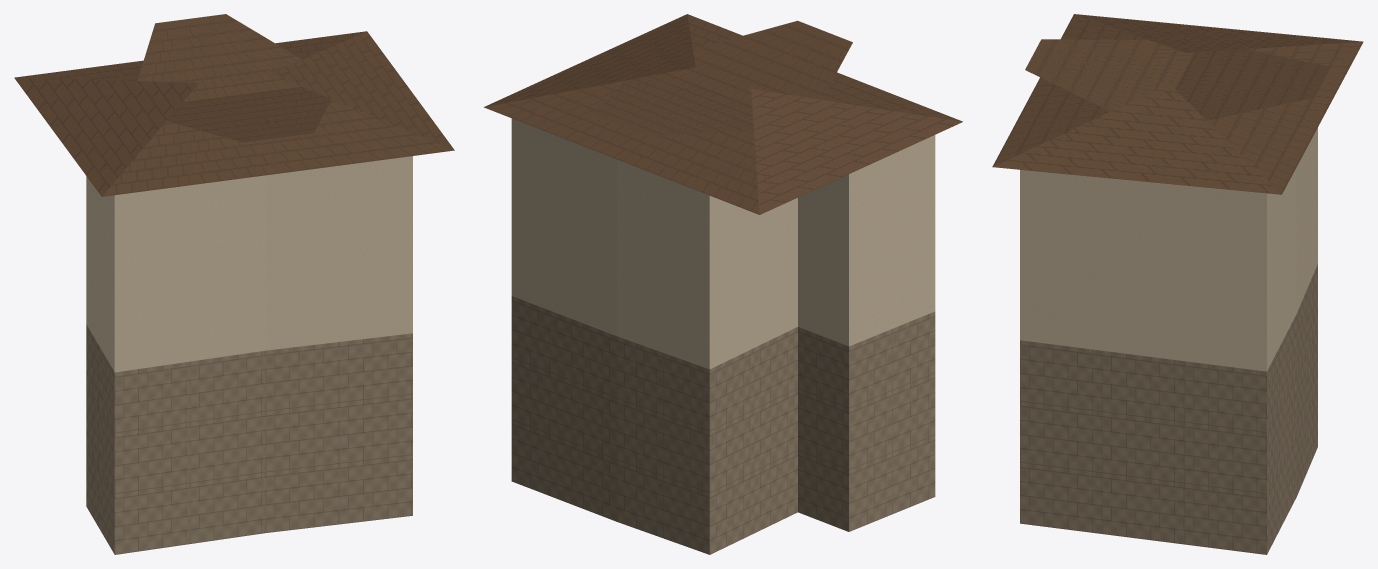
File: bld_c22_-43_568.gltf
The picture shows the model from 3 angles, left to right: view 1: azimuth 30°, elevation 25°; view 2: azimuth 150°, elevation 25°; view 3: azimuth 270°, elevation 25°; orthographic projection.
Parts seen in each view (by area): view 1: bld_c22_-43_568; view 2: bld_c22_-43_568; view 3: bld_c22_-43_568.
Part boxes in pixels (x1,y1,x2,y2): bld_c22_-43_568: (14, 14, 454, 554); bld_c22_-43_568: (484, 14, 962, 554); bld_c22_-43_568: (992, 14, 1363, 554).
Size of the model in its own units: 10.79 by 11.3 by 9.37.
3 materials, 3 textured.
